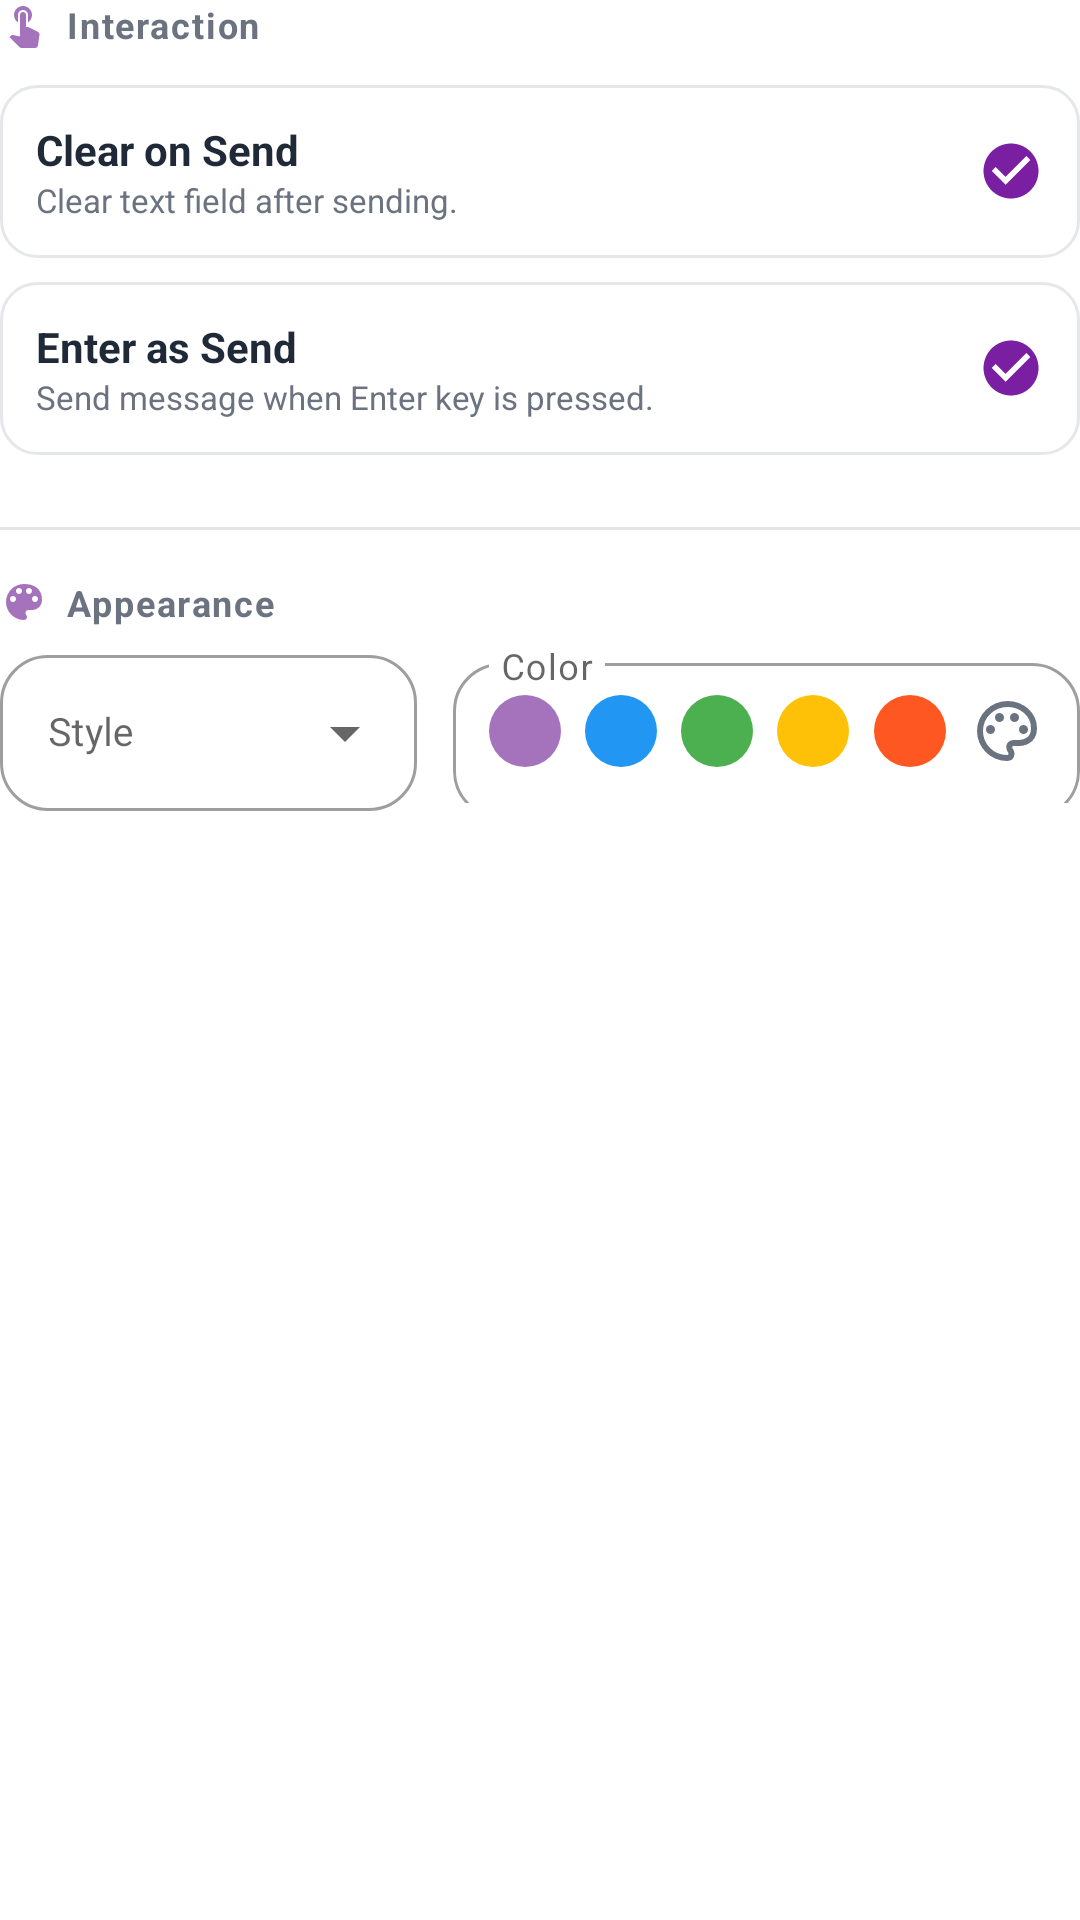

Icons on this 1080px x 1920px Android screen, each with the point to tap as (x=x, y=y):
check circle premium: (x=1011, y=171), (x=1011, y=368)
palette: (x=24, y=602)
palette open: (x=1007, y=731)
touch app: (x=24, y=27)
